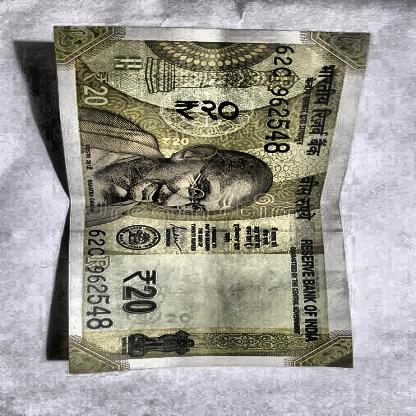Rs20: (111, 262, 168, 319)
